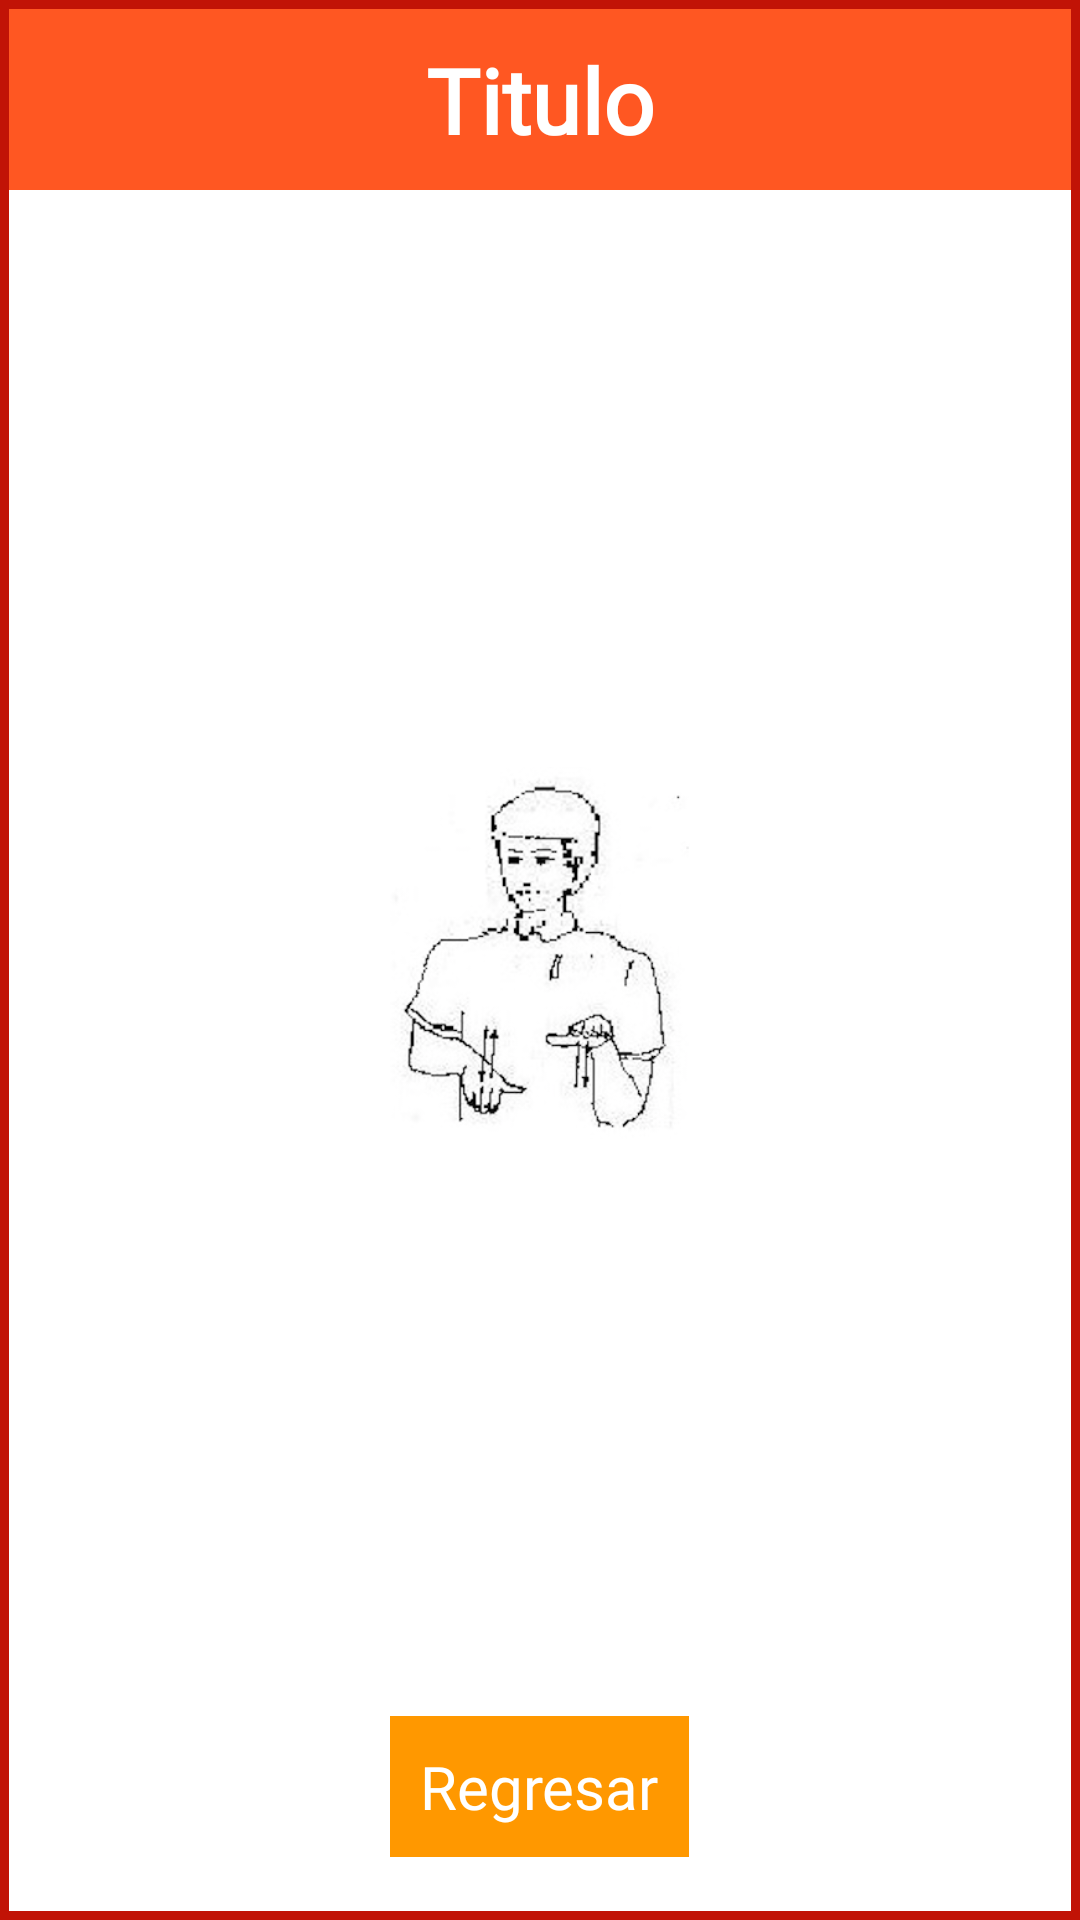

Named icons in this screenshot (1080x1920) and their bounding boxes, box(x1, y1, x2, y2):
aveces: box(404, 785, 680, 1128)
